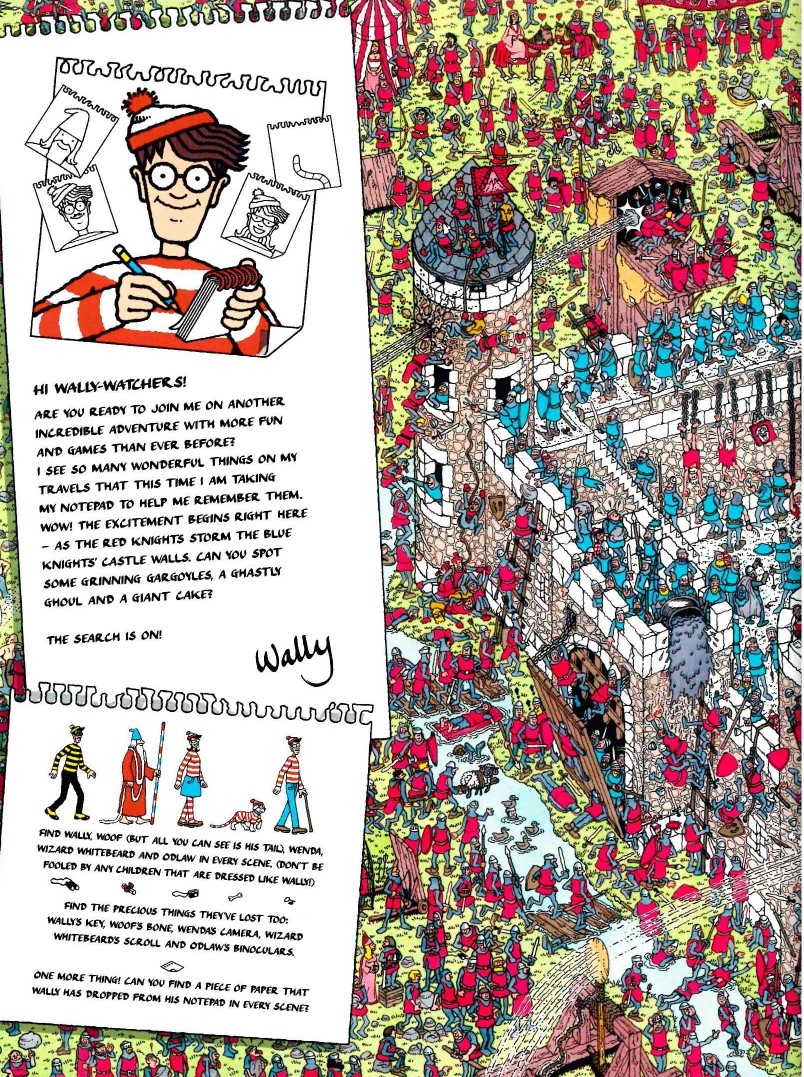waldos: (645, 144, 661, 160)
